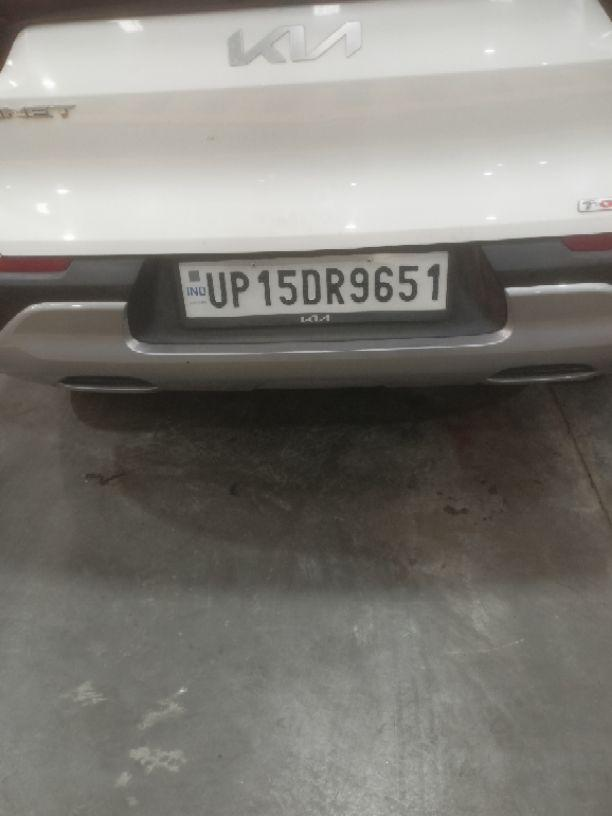license_plate: (173, 248, 451, 327)
